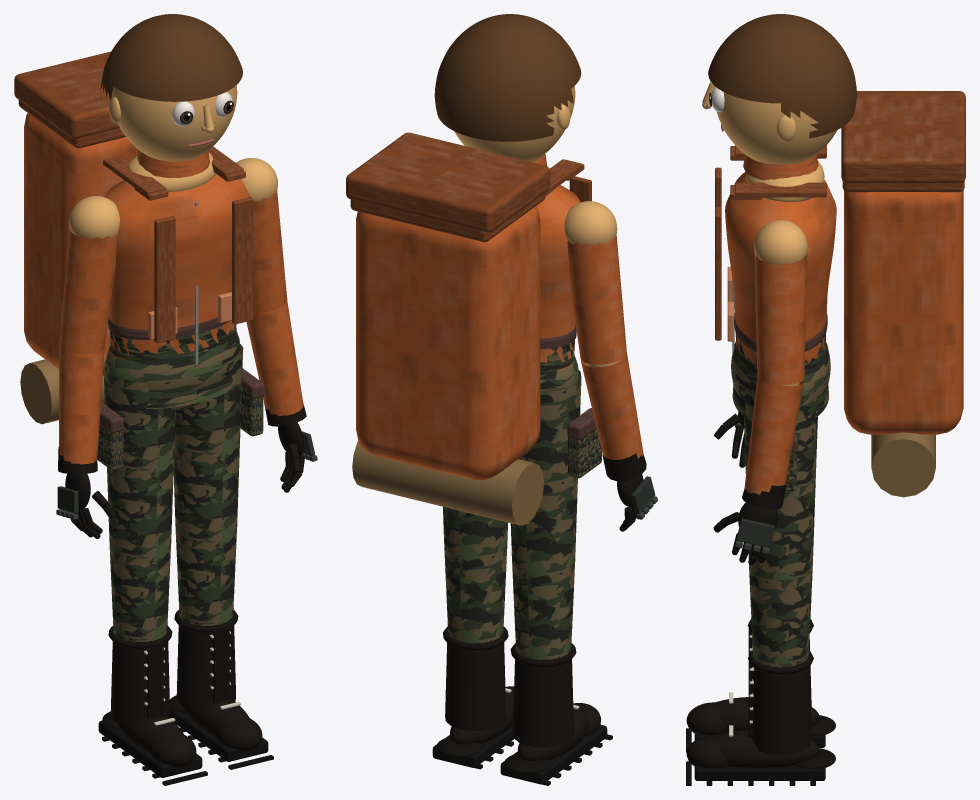
Rendered from 02-sac-de-randonnee.glb.
3 views of the same model, side by side, from view 1: azimuth 30°, elevation 25°; view 2: azimuth 150°, elevation 25°; view 3: azimuth 270°, elevation 25° (orthographic). The views are drawn at different scales.
Size of the model in its own units: 0.6344 by 1.77 by 0.608.
Materials: 27 (5 with a texture image).
